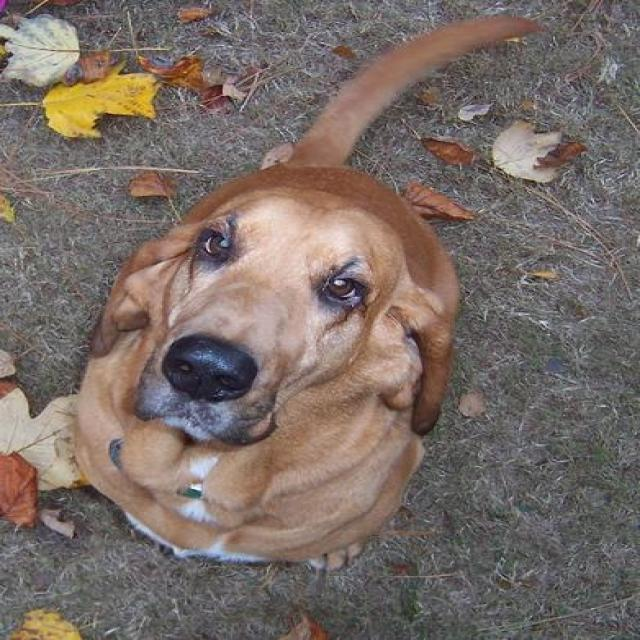bloodhound: (69, 14, 548, 580)
